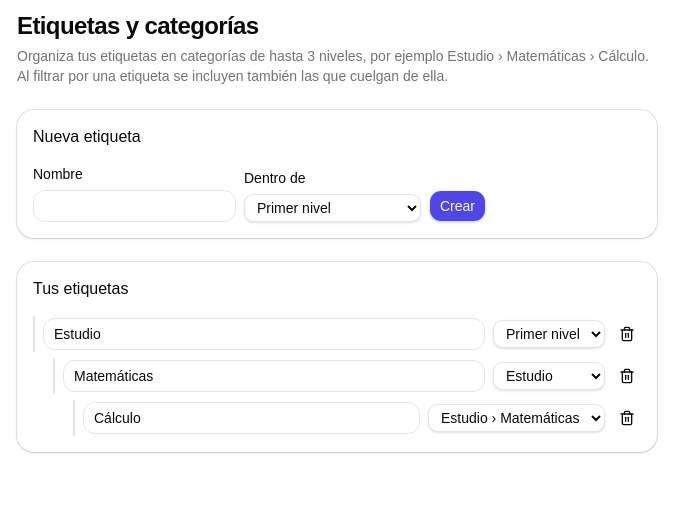
Test case: PaginaEtiquetas › crea una subetiqueta dentro de la elegida
Type "Álgebra" into the field labelled "Nombre".
click(134, 206); type("Álgebra")  # box [33,190,236,222]
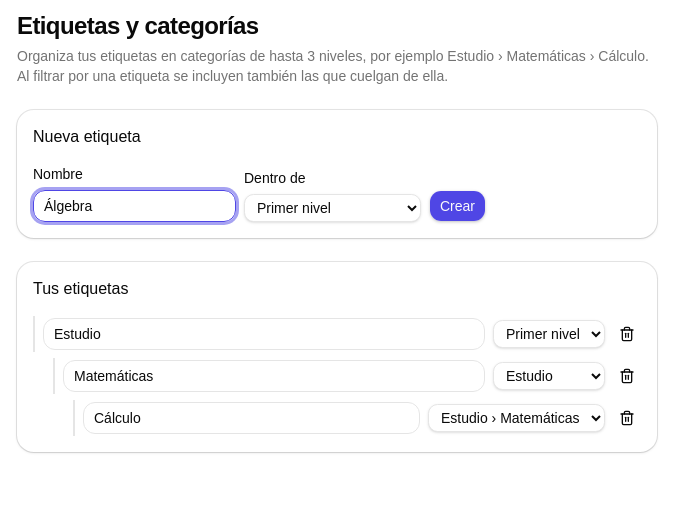
Select "Estudio › Matemáticas" in the dropdown labelled "Dentro de" at (332, 208), box [244,194,421,222]
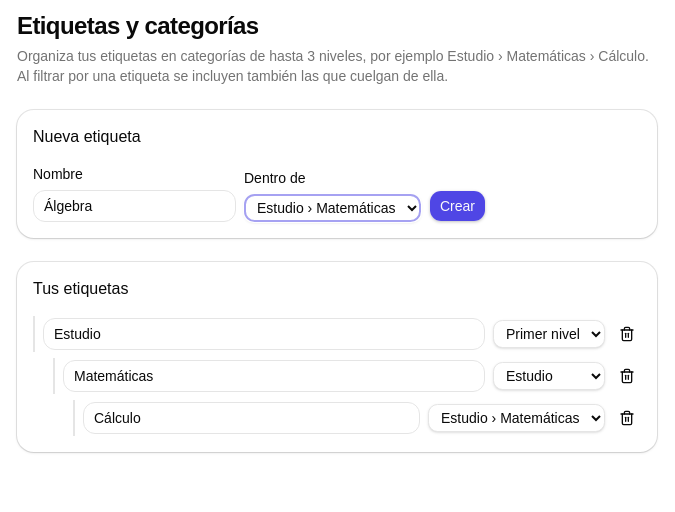
Click the button "Crear".
click(458, 206)  # box [429,190,486,222]
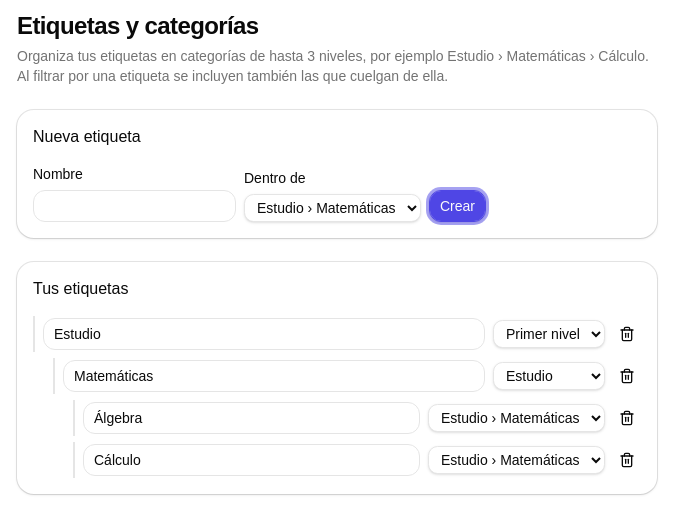
Expected: the field showing "Álgebra" is shown, [83,402,420,434]
